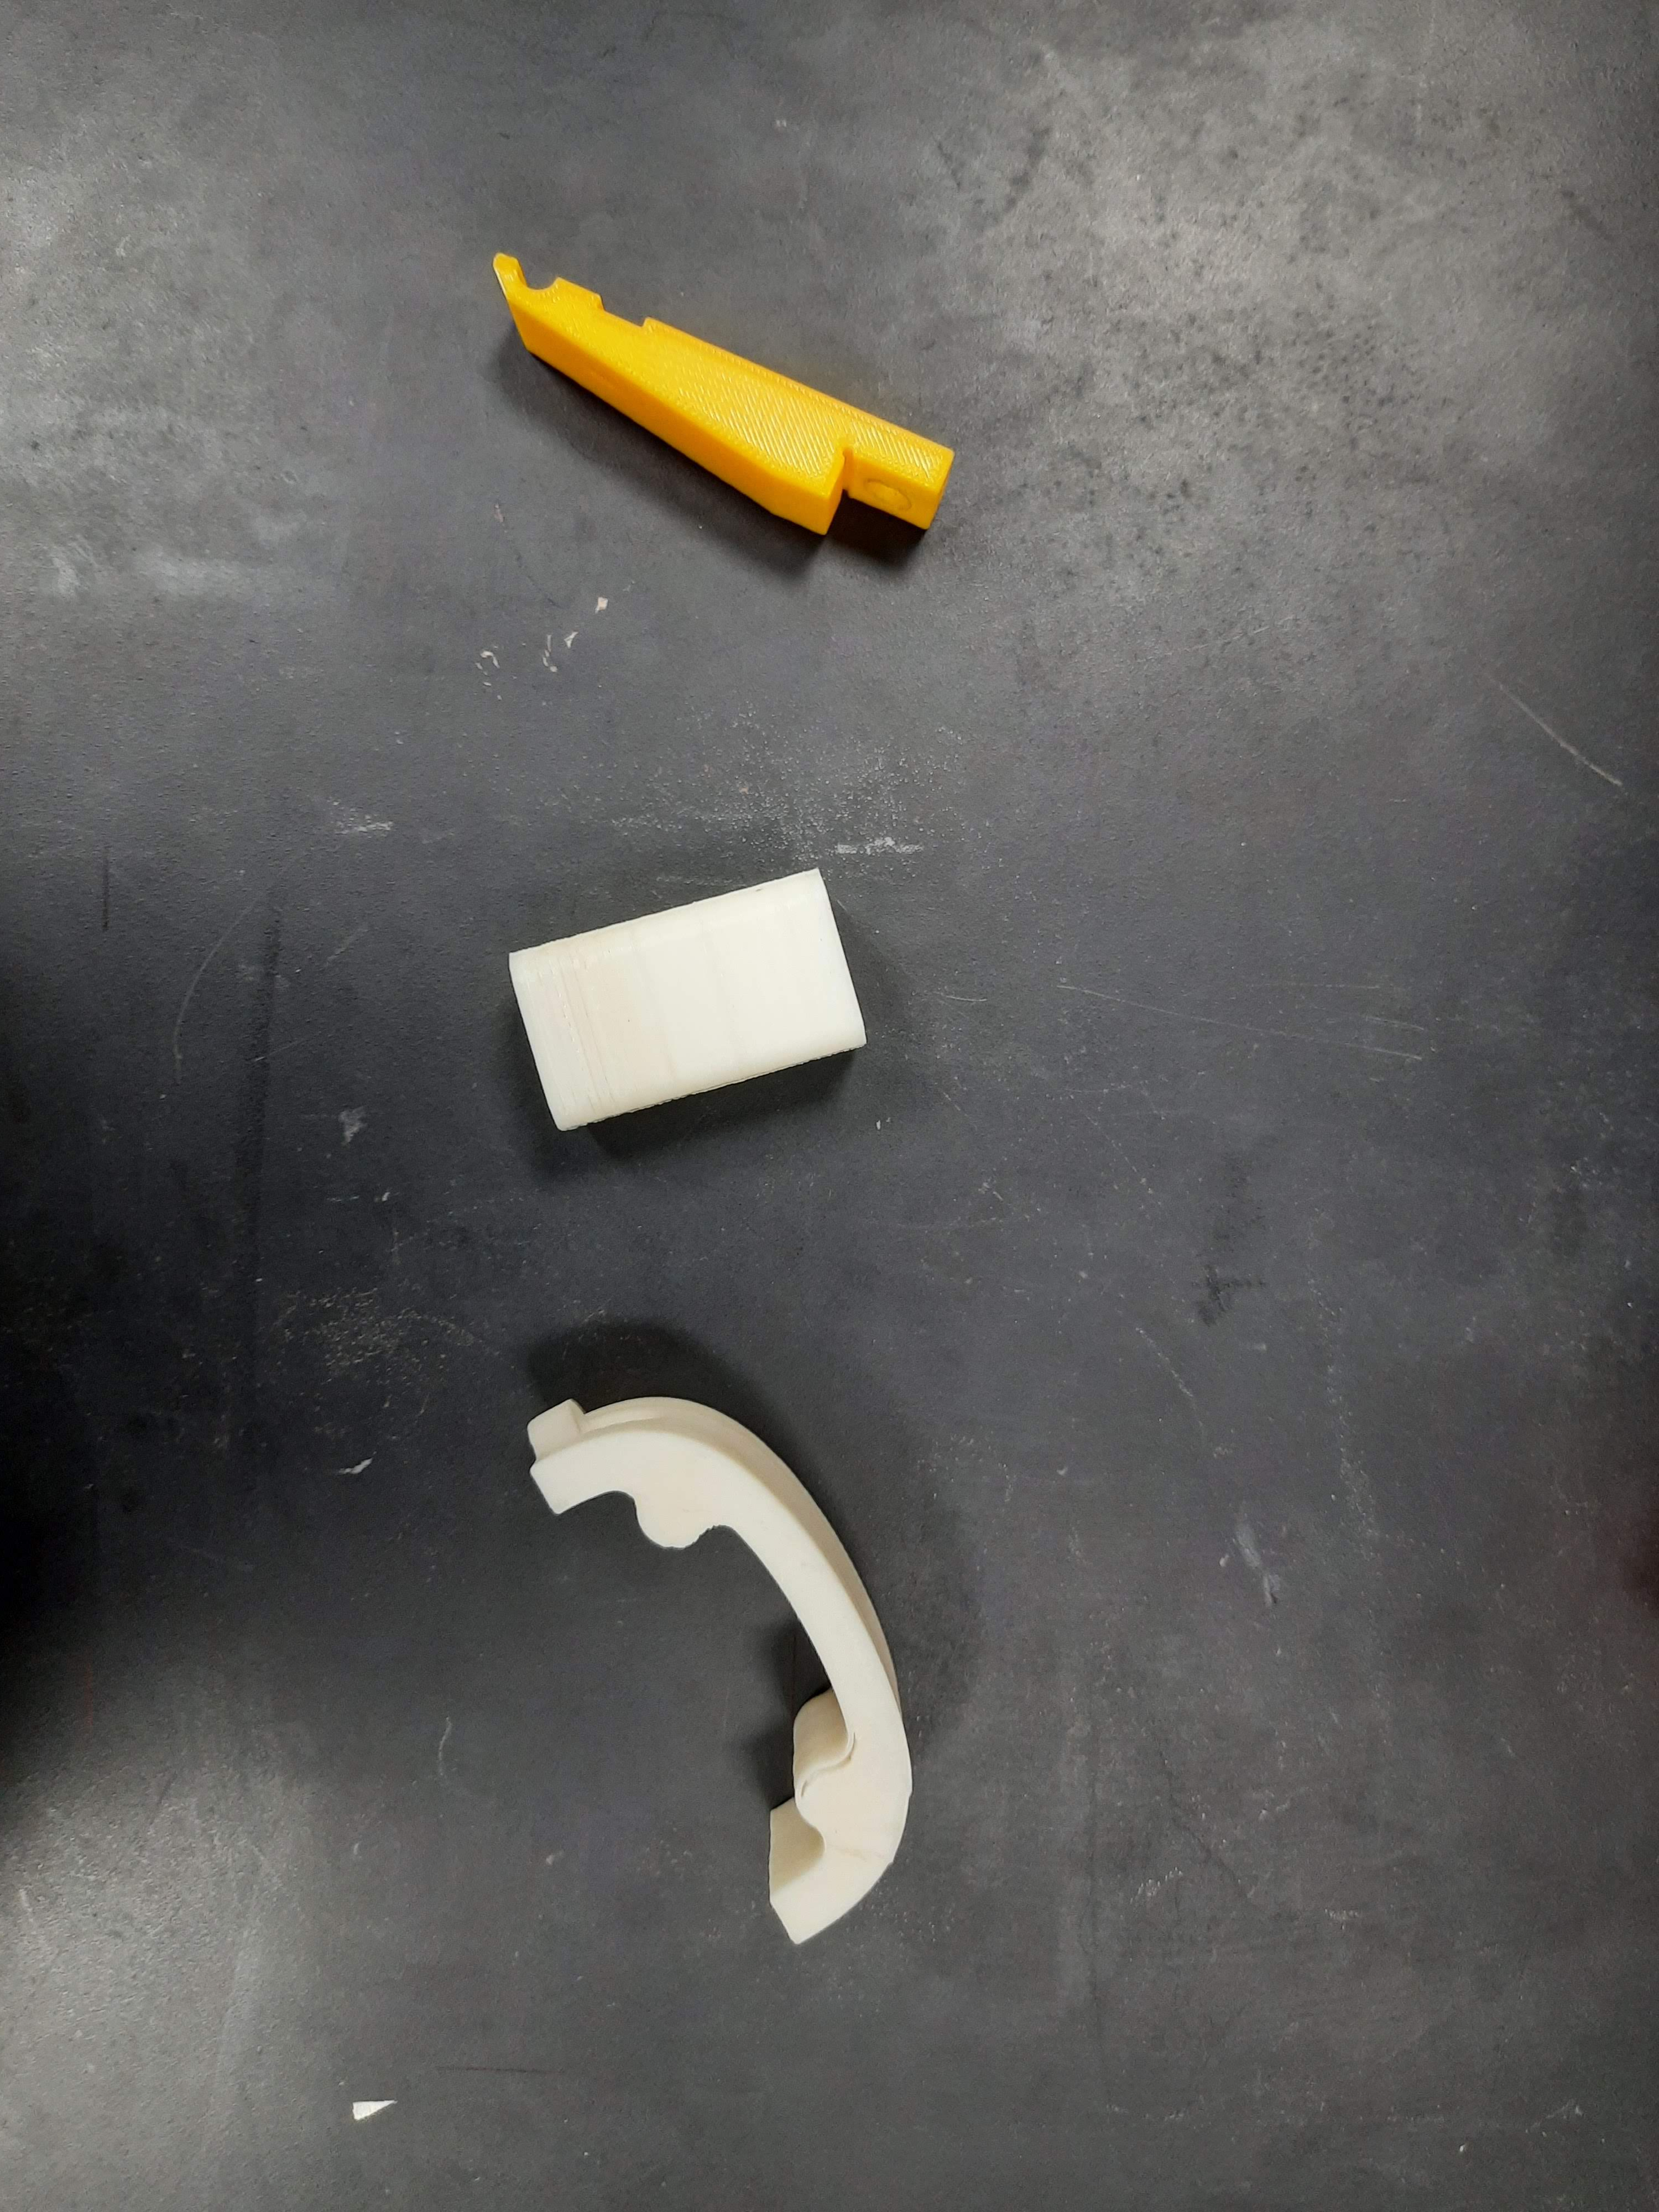ARC: (500, 1306, 1016, 1956)
CUBE: (502, 866, 868, 1125)
YELLOW: (450, 244, 969, 571)
